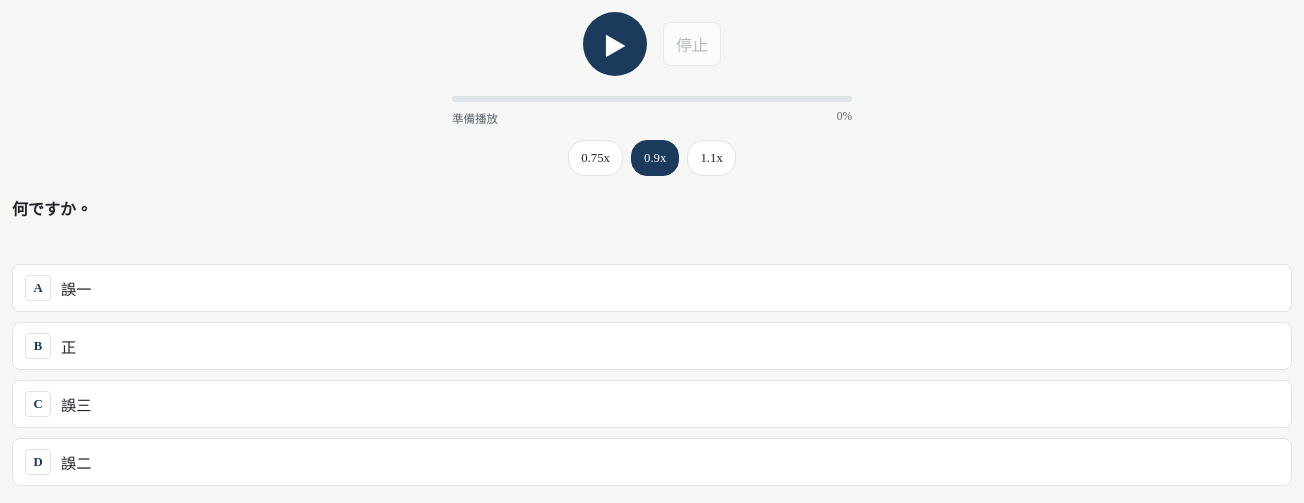
Scenario: background stop resets progress and ignores late completion
Click the button "▶" at (615, 44), box [583,12,647,76]
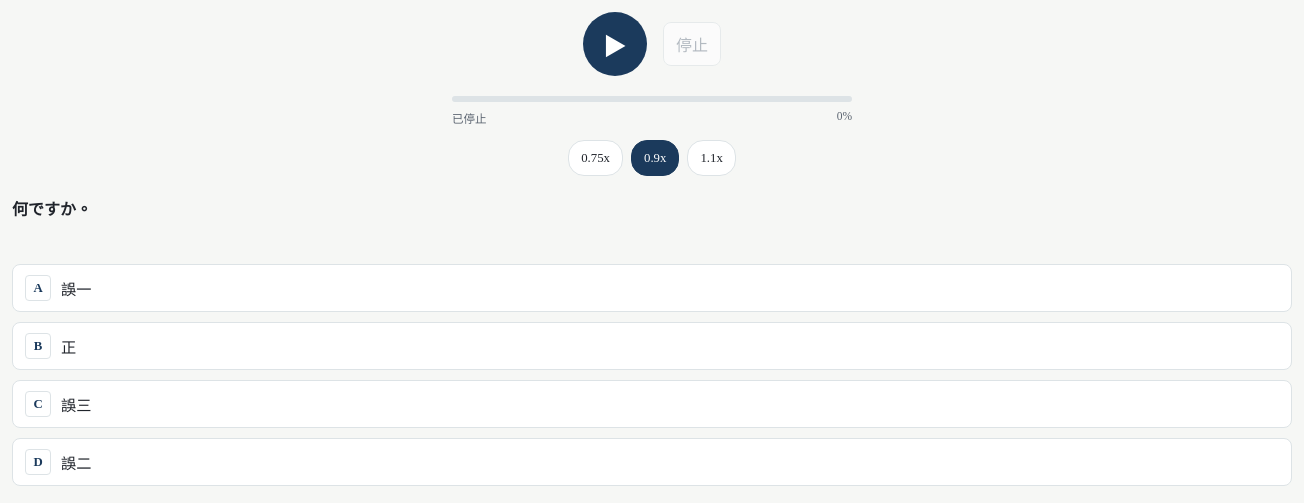
Expected: the text "已停止" is shown, [452,110,486,130]
